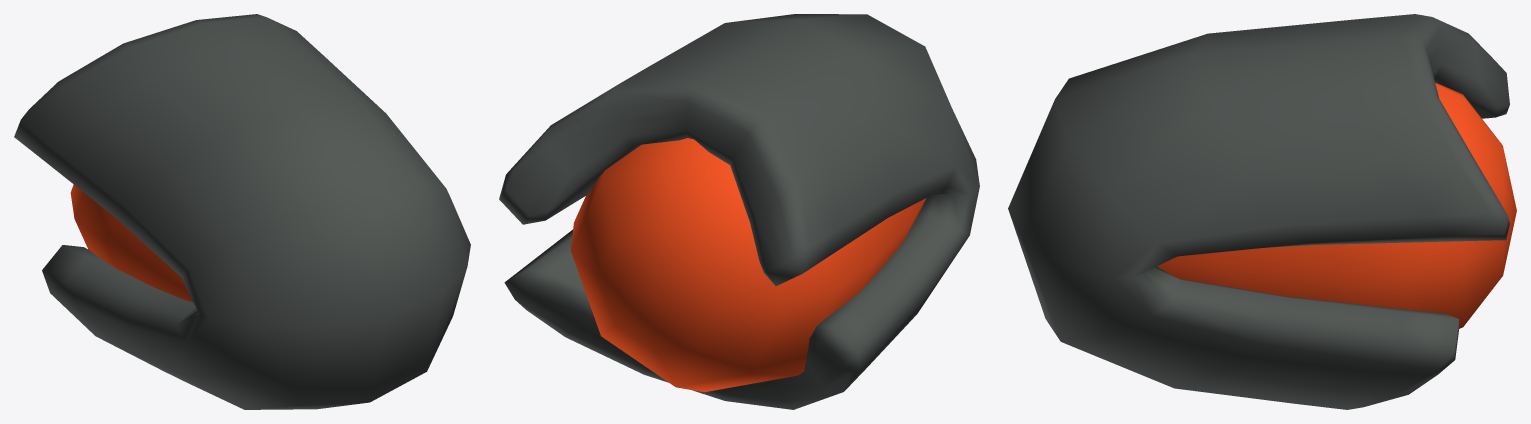
File: xsens_RightSecondDP.dae
The picture shows the model from 3 angles, left to right: view 1: azimuth 30°, elevation 25°; view 2: azimuth 150°, elevation 25°; view 3: azimuth 270°, elevation 25°; orthographic projection. The views are drawn at different scales.
Visible parts, largest first — view 1: RightSecondDP; view 2: RightSecondDP; view 3: RightSecondDP.
Boxes of the visible parts, left/top/right/bottom form: RightSecondDP: left=14, top=14, right=470, bottom=409; RightSecondDP: left=499, top=14, right=979, bottom=409; RightSecondDP: left=1008, top=14, right=1516, bottom=409.
Size of the model in its own units: 0.0157 by 0.0203 by 0.0153.
